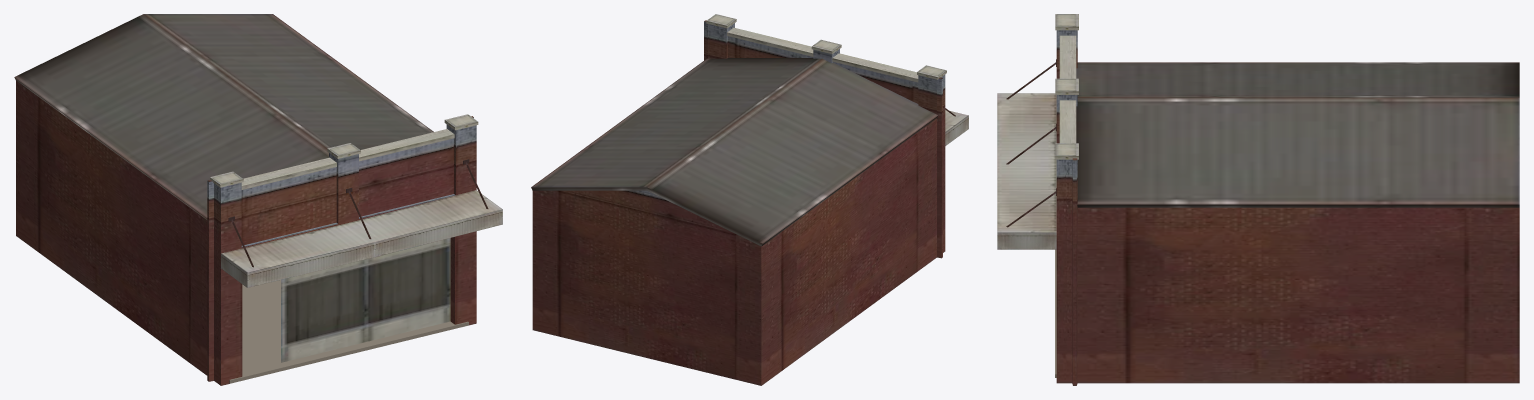
The model's file is rural-store-1.access-v2.lod0.glb.
The picture shows the model from 3 angles, left to right: view 1: azimuth 30°, elevation 25°; view 2: azimuth 150°, elevation 25°; view 3: azimuth 270°, elevation 25°; orthographic projection. The views are drawn at different scales.
Visible parts, largest first — view 1: Rural_StoreSmall_1_Rural_Brownstone_Facade_Flr_6_0, Rural_StoreSmall_1_Rural_Facade_FLR_2_0, Walkable floors and stairs; view 2: Rural_StoreSmall_1_Rural_Brownstone_Facade_Flr_6_0, Rural_StoreSmall_1_Rural_Facade_FLR_2_0; view 3: Rural_StoreSmall_1_Rural_Brownstone_Facade_Flr_6_0, Rural_StoreSmall_1_Rural_Facade_FLR_2_0.
Part boxes in pixels (x1=…): Rural_StoreSmall_1_Rural_Brownstone_Facade_Flr_6_0: x1=14, y1=14, x2=476, y2=385; Rural_StoreSmall_1_Rural_Facade_FLR_2_0: x1=210, y1=114, x2=502, y2=362; Walkable floors and stairs: x1=229, y1=280, x2=468, y2=383; Rural_StoreSmall_1_Rural_Brownstone_Facade_Flr_6_0: x1=531, y1=20, x2=945, y2=385; Rural_StoreSmall_1_Rural_Facade_FLR_2_0: x1=706, y1=14, x2=968, y2=145; Rural_StoreSmall_1_Rural_Brownstone_Facade_Flr_6_0: x1=1056, y1=30, x2=1519, y2=385; Rural_StoreSmall_1_Rural_Facade_FLR_2_0: x1=997, y1=14, x2=1078, y2=249.
Bounding box in the file's own units: 8.32 × 6.06 × 12.59.
Materials: 3 (2 with a texture image).
